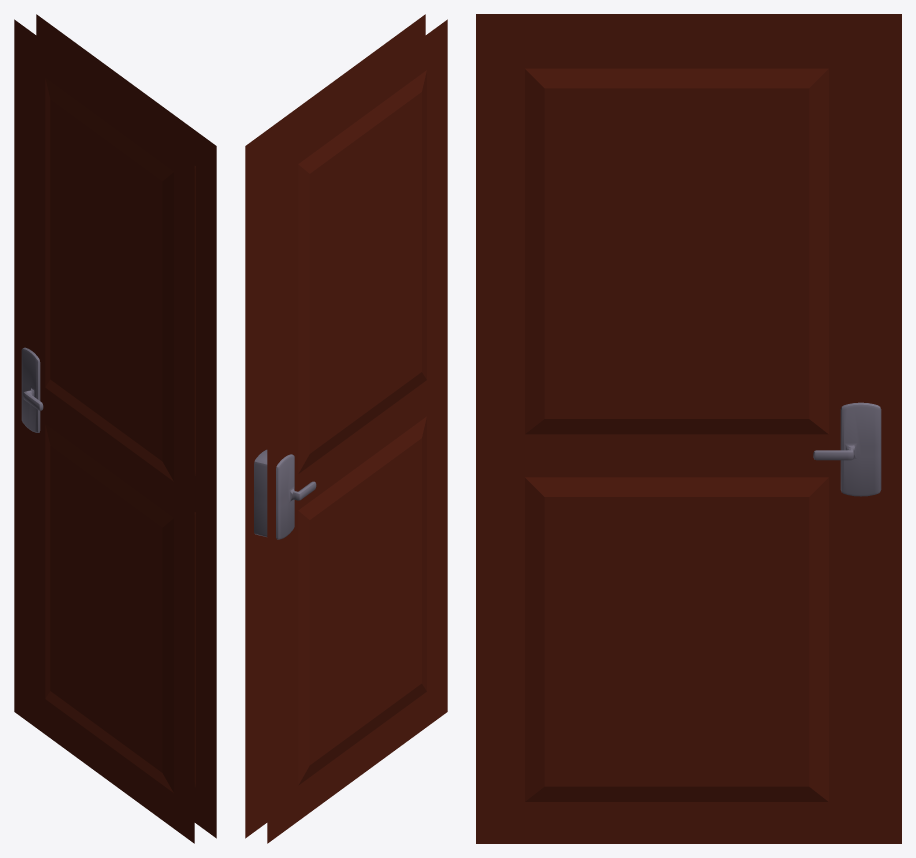
Rendered from odaKapi.fbx.
3 views of the same model, side by side, from view 1: azimuth 30°, elevation 25°; view 2: azimuth 150°, elevation 25°; view 3: azimuth 270°, elevation 25° (orthographic). The views are drawn at different scales.
Parts seen in each view (by area): view 1: odaKapi; view 2: odaKapi; view 3: odaKapi.
Part boxes in pixels (x1=…): odaKapi: x1=14, y1=14, x2=216, y2=843; odaKapi: x1=245, y1=14, x2=447, y2=843; odaKapi: x1=476, y1=14, x2=901, y2=843.
Size of the model in its own units: 21.96 by 310 by 146.
